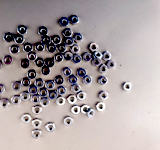nut: (38, 26, 49, 37), (3, 55, 13, 66), (9, 45, 20, 55), (4, 32, 14, 43), (15, 34, 25, 45), (18, 25, 28, 36), (11, 96, 22, 106), (11, 82, 22, 92), (62, 67, 73, 77), (71, 84, 82, 94), (20, 92, 31, 102), (40, 98, 51, 108), (28, 85, 38, 96), (60, 17, 70, 27), (70, 15, 80, 25), (74, 33, 84, 43), (63, 28, 73, 38), (52, 35, 62, 45), (35, 43, 45, 53), (23, 43, 33, 53), (20, 59, 30, 69), (27, 70, 37, 80), (0, 99, 10, 109), (32, 106, 42, 116), (22, 115, 32, 125), (32, 119, 42, 129), (32, 130, 42, 140), (46, 123, 56, 133), (64, 117, 74, 127), (56, 97, 66, 107), (71, 106, 81, 116), (68, 95, 78, 105), (57, 86, 67, 96), (55, 76, 65, 86), (46, 58, 56, 68), (41, 66, 51, 76), (35, 58, 45, 68), (27, 52, 37, 62), (98, 76, 108, 86), (99, 91, 109, 101), (68, 75, 78, 85), (86, 109, 96, 119), (47, 44, 57, 54), (54, 53, 64, 63), (72, 54, 82, 64), (64, 52, 74, 62), (83, 53, 93, 63), (31, 95, 41, 105), (35, 79, 45, 89), (39, 89, 49, 99), (21, 78, 31, 88), (123, 82, 133, 92), (96, 103, 106, 112), (83, 76, 93, 85), (77, 69, 87, 78), (77, 92, 87, 101), (81, 105, 90, 115), (89, 43, 99, 52), (48, 91, 58, 100), (45, 81, 55, 90), (71, 45, 80, 54), (65, 38, 74, 47), (103, 52, 112, 61), (100, 65, 109, 74), (93, 58, 102, 67), (94, 51, 103, 60), (108, 60, 116, 70), (41, 37, 51, 45), (58, 44, 67, 52), (0, 85, 5, 95), (0, 60, 2, 70)
